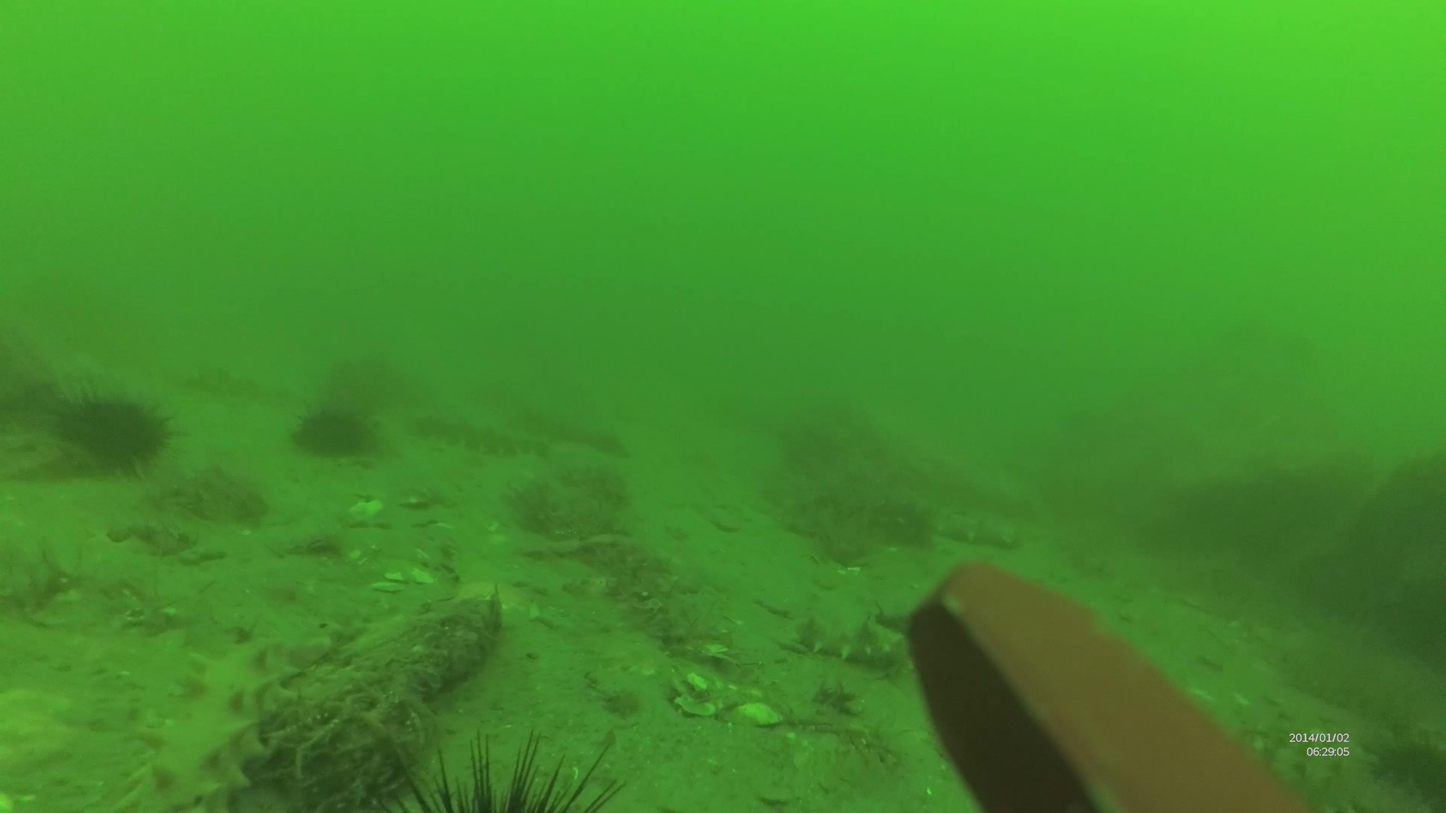echinus: (121, 630, 333, 805), (782, 608, 901, 677), (418, 403, 557, 461), (930, 501, 1025, 551)
starfish: (365, 733, 639, 813), (56, 383, 176, 472), (287, 403, 371, 460)
